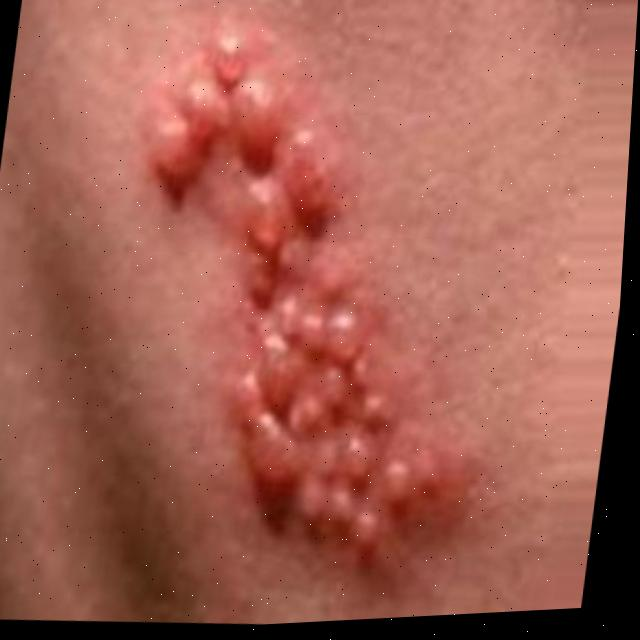Shingles: (89, 5, 523, 578)
